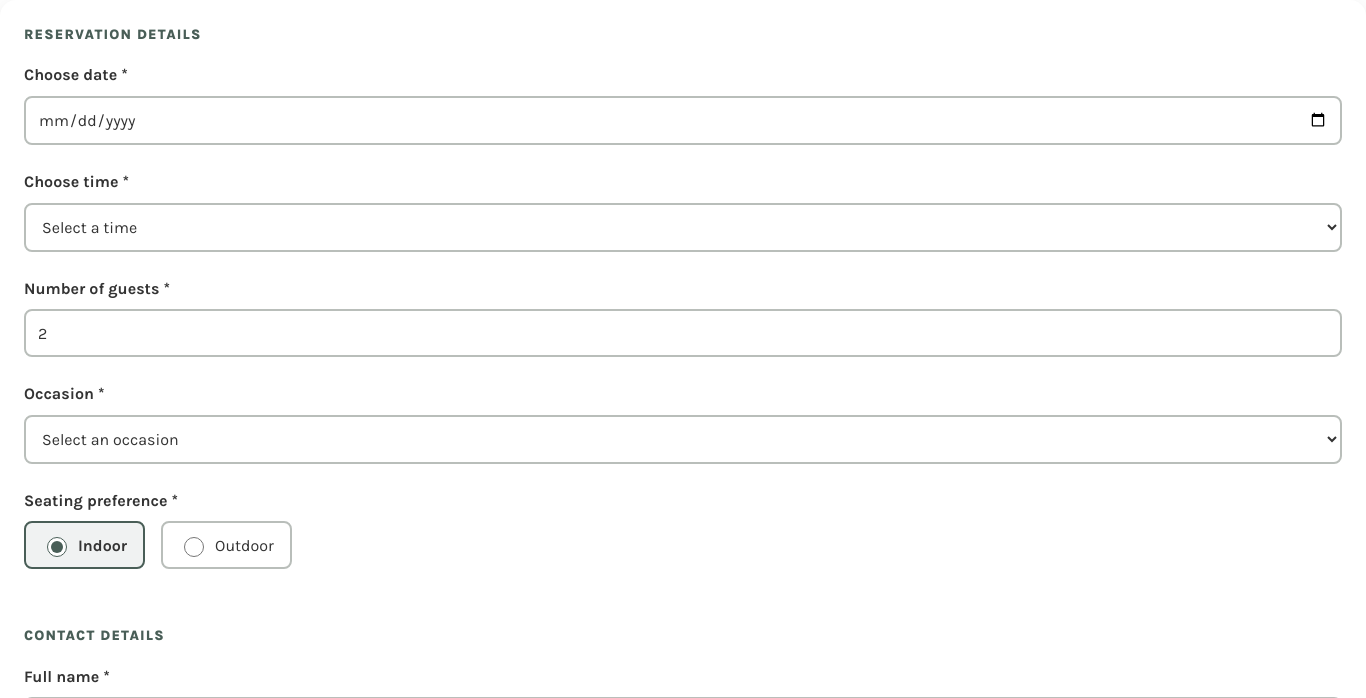
Test case: BookingForm validation › points parties larger than ten to the phone number
Replace the text in the number field labelled "Number of guests *" with "12" at (683, 333), box [24, 309, 1342, 357]
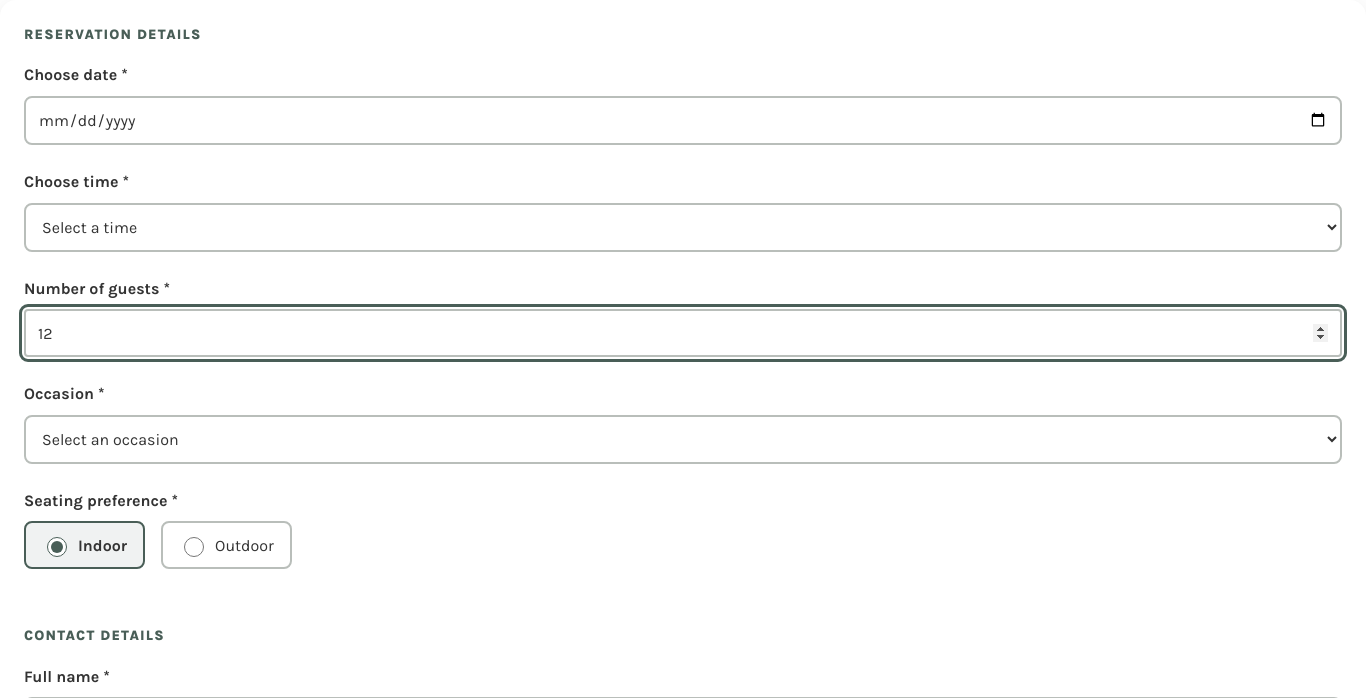
Press Tab
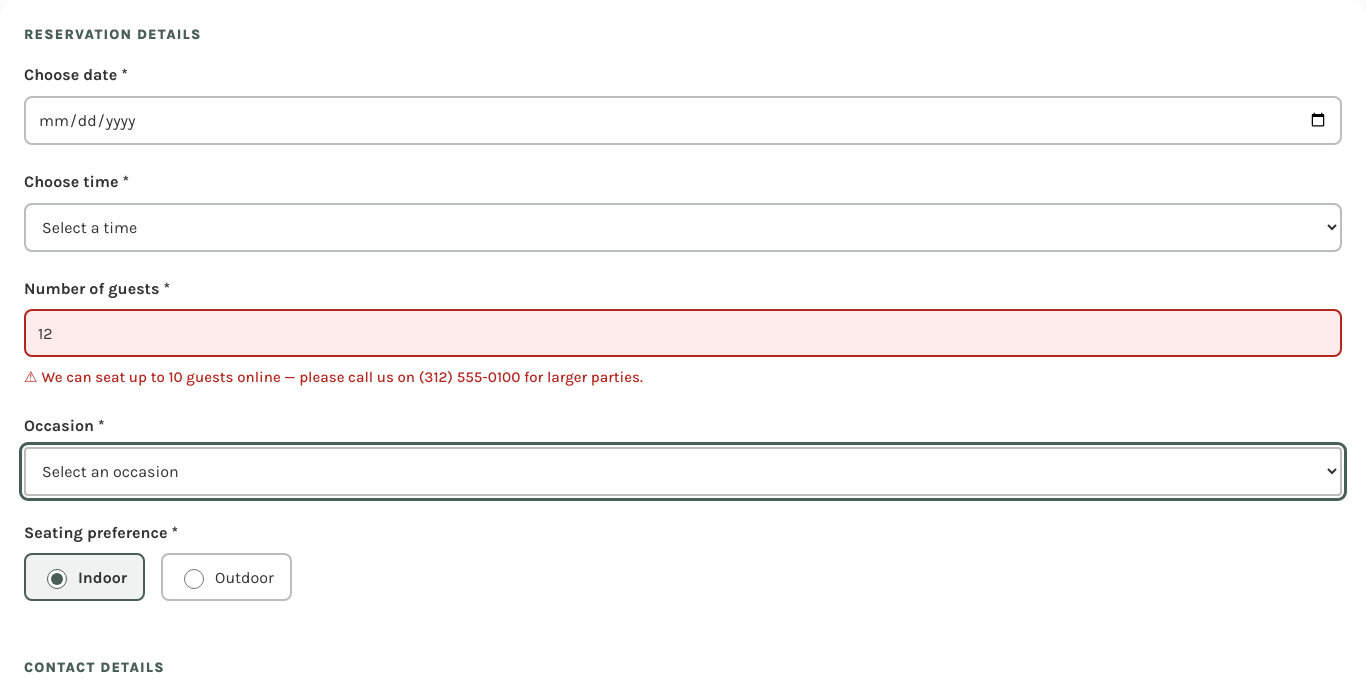
Result: the text "We can seat up to 10 guests online" shows "555-0100" at [42, 368, 643, 386]
